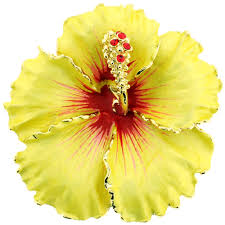hybiscus: (5, 3, 223, 222)
